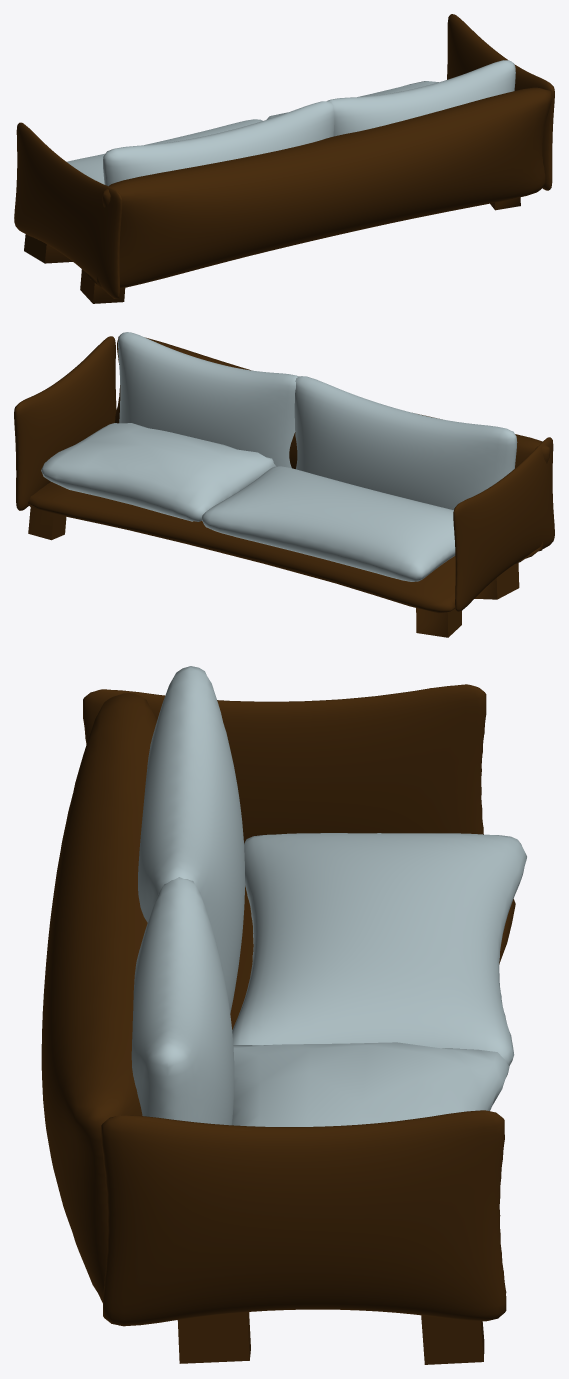
The model's file is sofa.fbx.
The picture shows the model from 3 angles, top to bottom: view 1: azimuth 30°, elevation 25°; view 2: azimuth 150°, elevation 25°; view 3: azimuth 270°, elevation 25°; orthographic projection. The views are drawn at different scales.
Visible parts, largest first — view 1: Cube.006; view 2: Cube.006; view 3: Cube.006.
Part boxes in pixels (box(x1,y1,x2,y2)): Cube.006: box(14, 14, 554, 303); Cube.006: box(14, 332, 554, 637); Cube.006: box(41, 666, 526, 1364).
Size of the model in its own units: 880 by 292 by 406.
